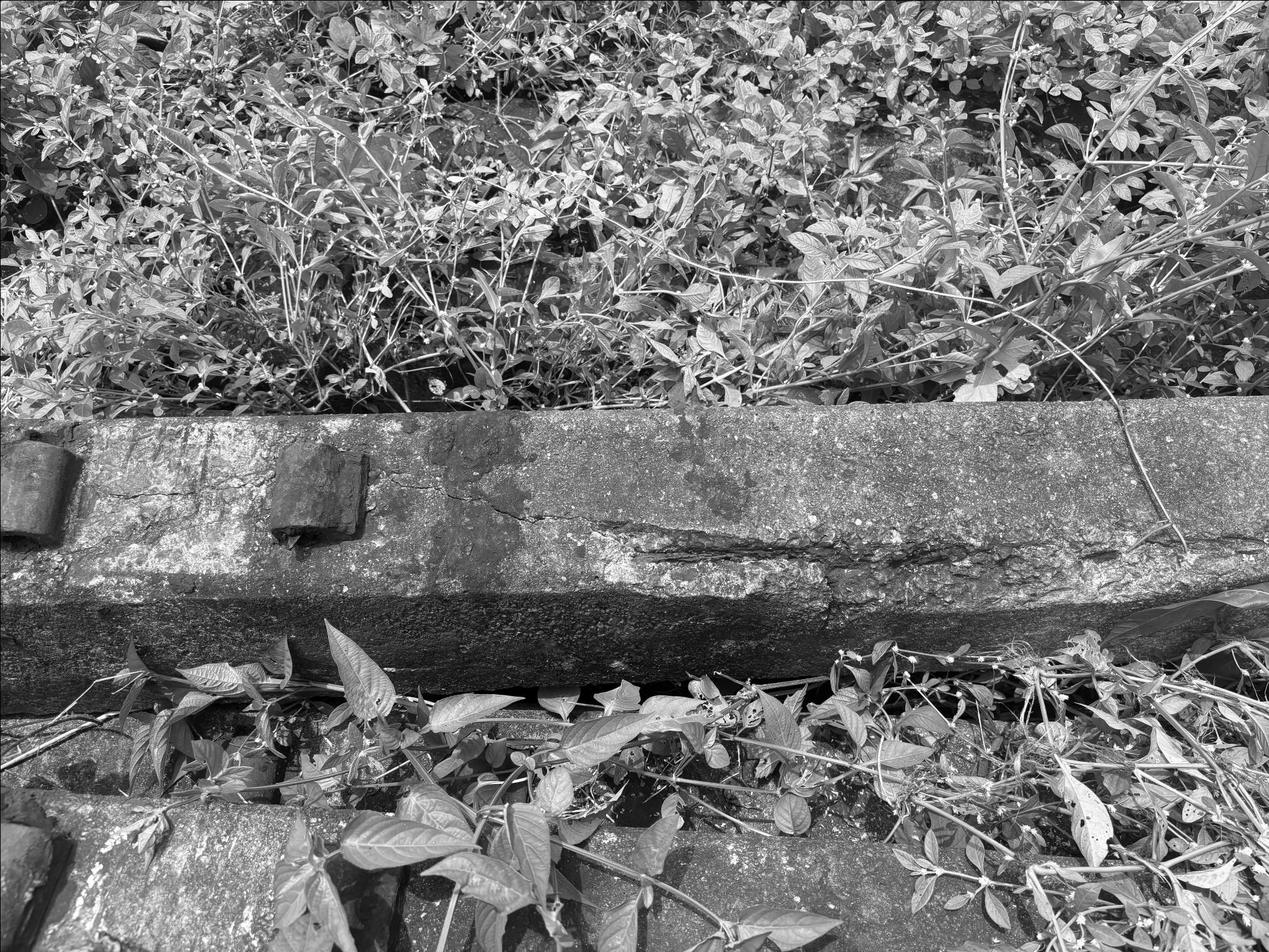cracks in midportion: (393, 447, 1237, 592)
cracks under rail seat: (81, 454, 252, 544)
